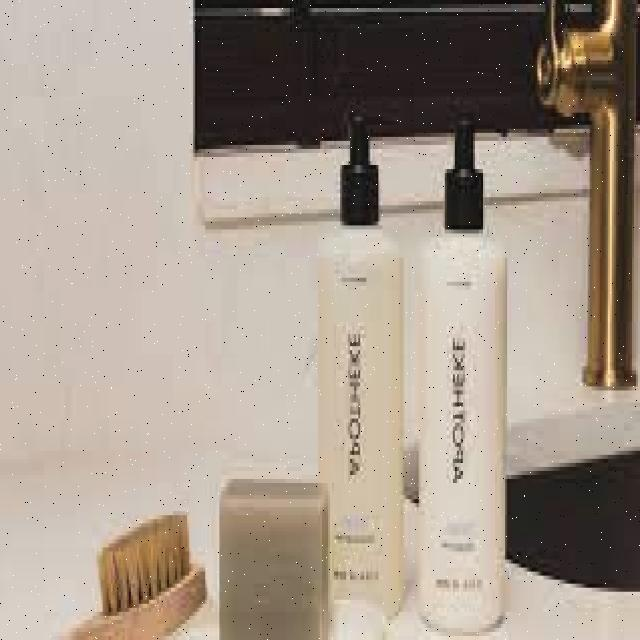liquid soap: (324, 72, 415, 640), (416, 95, 510, 635)
